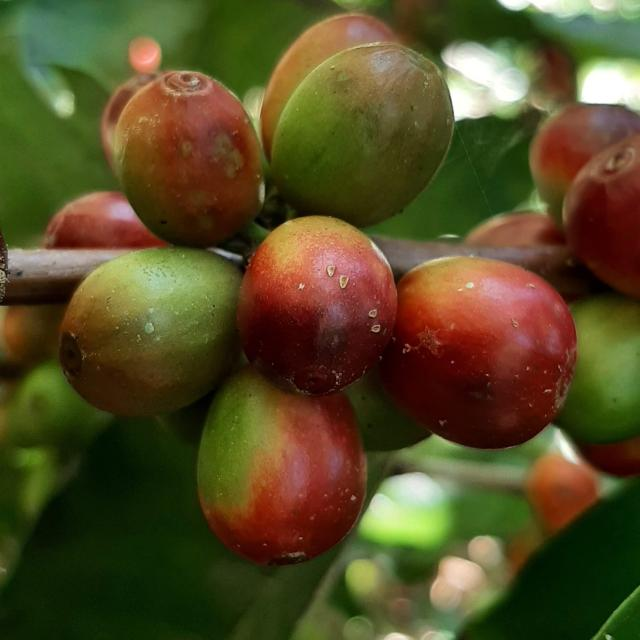green: (271, 42, 455, 227), (559, 294, 640, 444)
red: (43, 191, 167, 248)
yellow: (381, 257, 578, 449), (197, 365, 367, 567), (58, 247, 242, 416), (237, 216, 398, 396), (112, 70, 264, 247), (260, 13, 399, 159), (530, 103, 640, 225)
